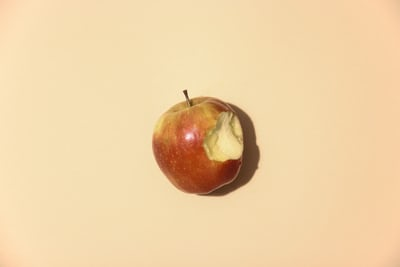apple: (148, 86, 248, 197)
